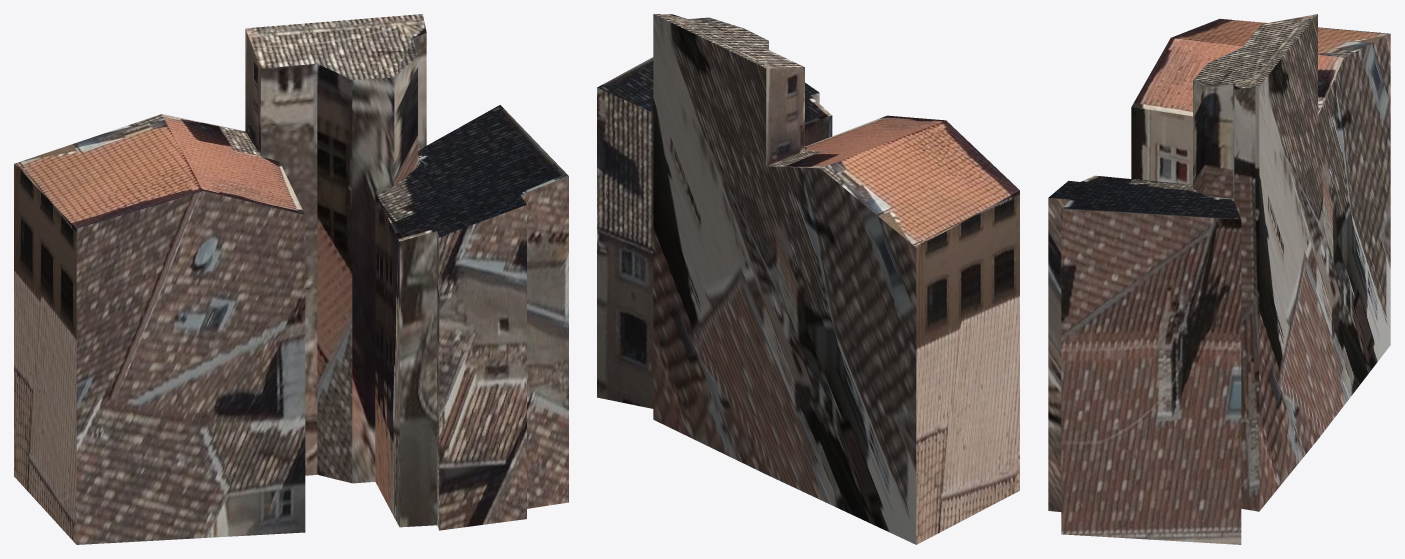
The picture shows the model from 3 angles, left to right: view 1: azimuth 30°, elevation 25°; view 2: azimuth 150°, elevation 25°; view 3: azimuth 270°, elevation 25°; orthographic projection. The views are drawn at different scales.
Parts seen in each view (by area): view 1: Z_UP; view 2: Z_UP; view 3: Z_UP.
Boxes of the visible parts, x1,y1,x2,y2 form: Z_UP: (14,14,568,544); Z_UP: (597,14,1019,544); Z_UP: (1048,14,1390,544).
Bounding box in the file's own units: 20.85 × 19.6 × 14.29.
Materials: 2 (1 with a texture image).
